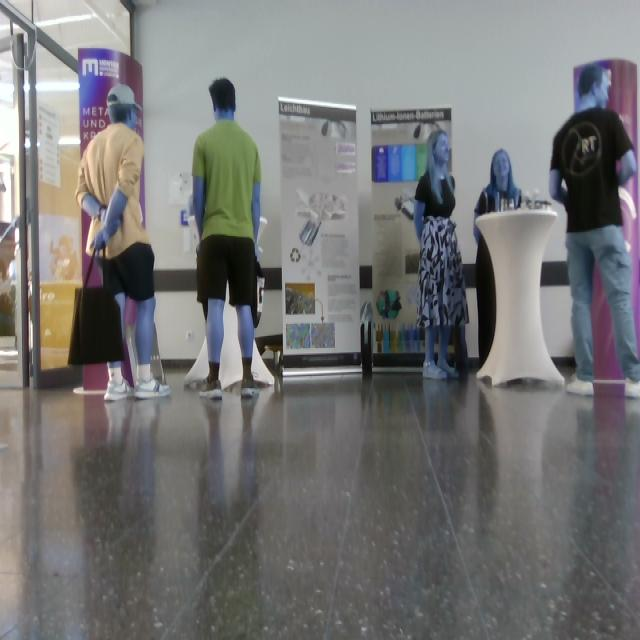light bulb: (295, 187, 346, 245), (106, 83, 142, 109), (393, 191, 414, 220), (299, 219, 320, 245), (320, 118, 346, 138), (413, 120, 439, 140), (255, 216, 267, 253)
person: (74, 83, 171, 400), (548, 63, 639, 397), (191, 77, 262, 399), (413, 129, 469, 380)
pillar: (474, 204, 564, 387)
tiled floor: (0, 362, 639, 638)
